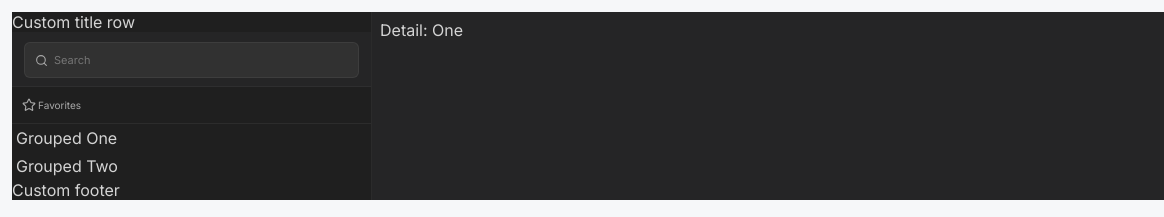
Test: CollectionShell › lets a caller render custom grouped list markup from the filtered items, plus header/footer slots
The width and height of the screenshot is (1164, 217).
Expected: the text "Custom title row" is shown, [12,12,135,32]
Expected: the text "Custom footer" is shown, [12,180,120,200]
Click the button "Grouped Two": click(67, 166) [12,152,122,180]
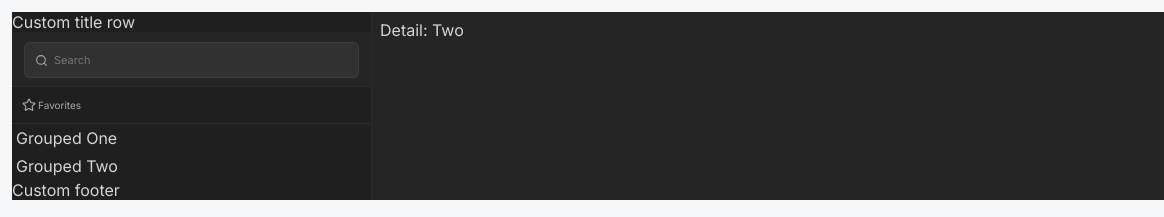
Expected: the text "Detail: Two" is shown, [380,20,464,40]
